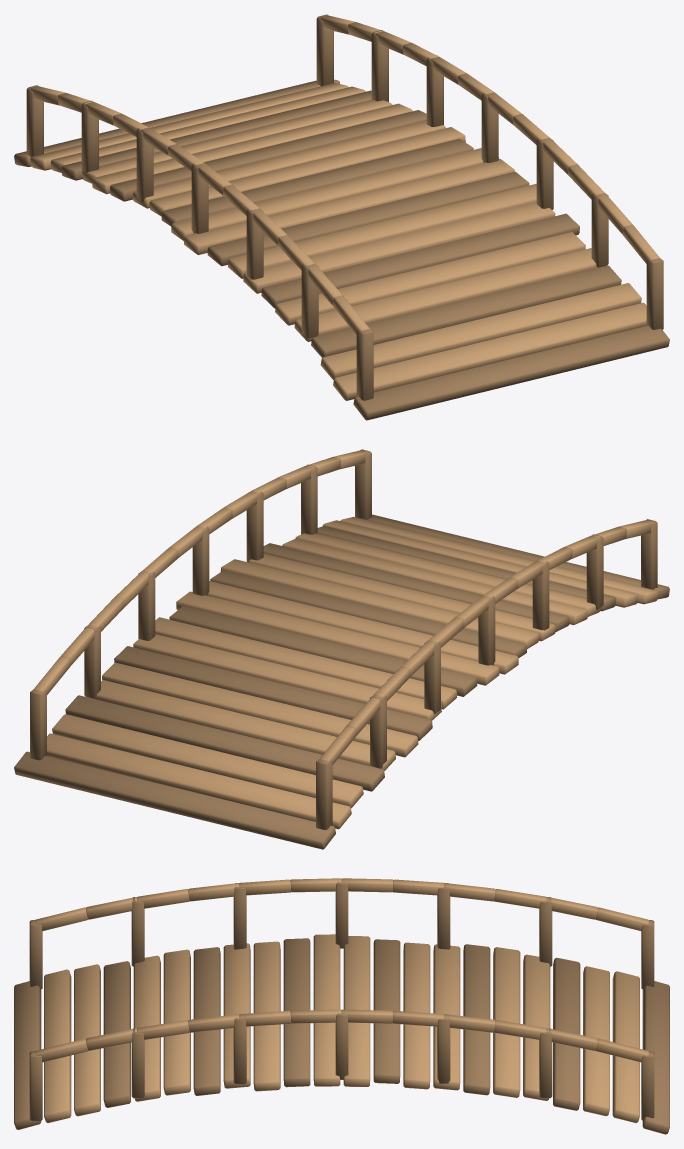
File: bridge.glb
3 views of the same model, one above another, from view 1: azimuth 30°, elevation 25°; view 2: azimuth 150°, elevation 25°; view 3: azimuth 270°, elevation 25° (orthographic). The views are drawn at different scales.
Size of the model in its own units: 2.93 by 1.11 by 5.58.
